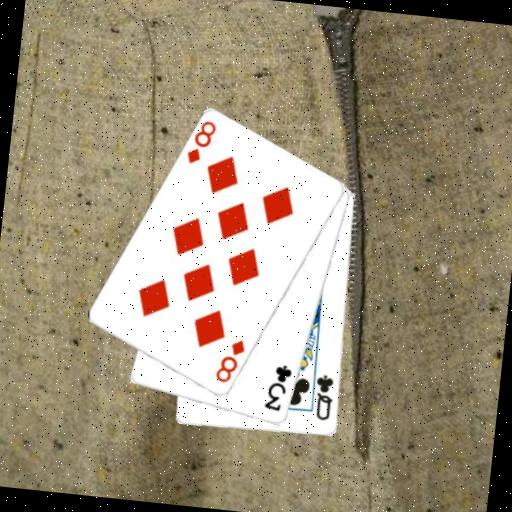3C: (261, 361, 295, 415)
8D: (212, 334, 249, 387), (183, 116, 219, 168)
QC: (310, 371, 337, 423)
